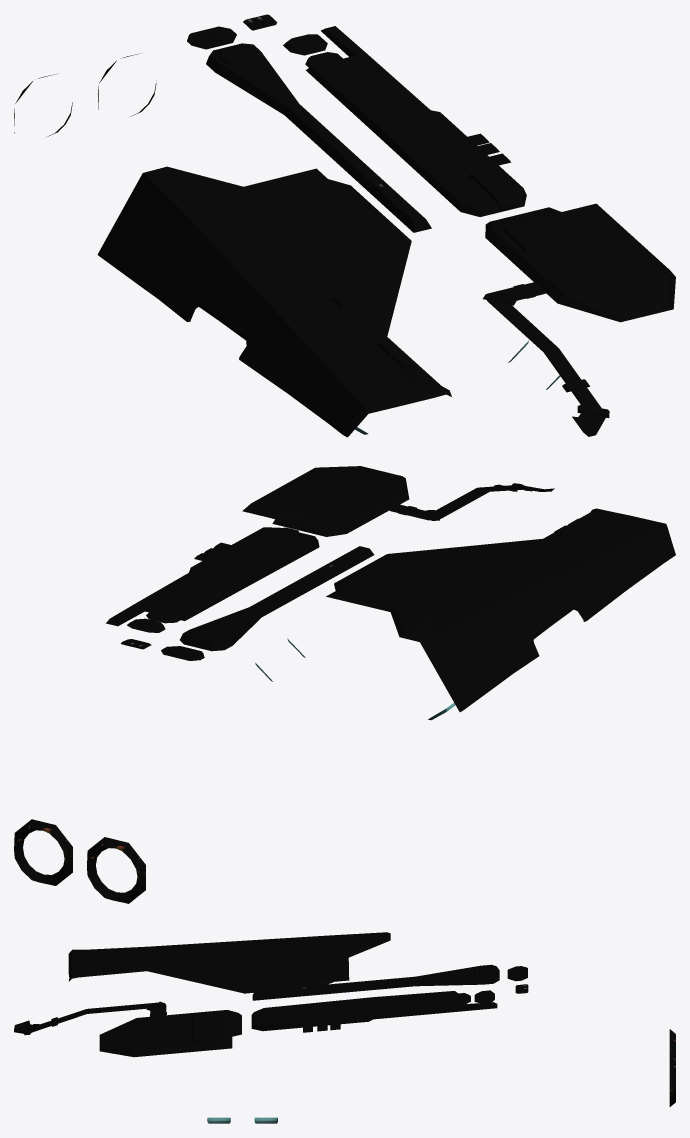
File: hgn_cu_rcon_01_t1.glb
3 views of the same model, one above another, from view 1: azimuth 30°, elevation 25°; view 2: azimuth 150°, elevation 25°; view 3: azimuth 270°, elevation 25° (orthographic). The views are drawn at different scales.
Parts seen in each view (by area): view 1: hgn_resource_collector_rm_LOD0; view 2: hgn_resource_collector_rm_LOD0; view 3: hgn_resource_collector_rm_LOD0.
Part boxes in pixels (x1,y1,x2,y2): hgn_resource_collector_rm_LOD0: (14, 14, 675, 437); hgn_resource_collector_rm_LOD0: (14, 466, 675, 903); hgn_resource_collector_rm_LOD0: (14, 932, 675, 1123).
Size of what is drawn, in the model's own units: 0.8786 by 0.4433 by 2.12.
1 material, 1 textured.
